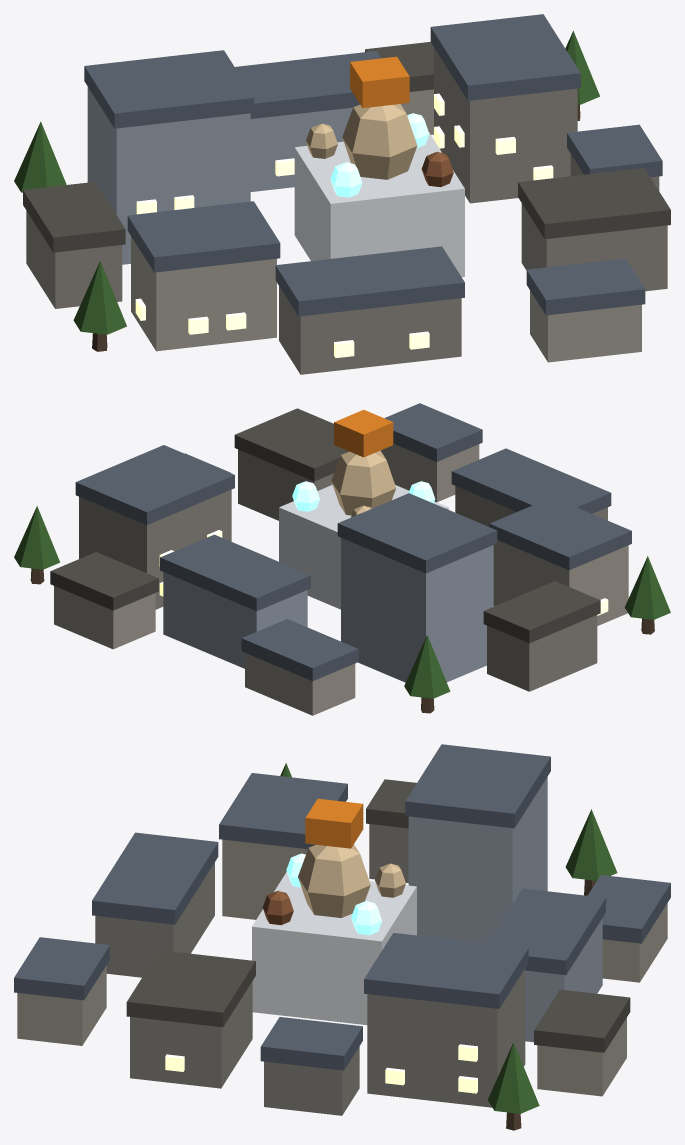
Rendered from overworld-settlement-slavic-town.glb.
3 views of the same model, one above another, from view 1: azimuth 30°, elevation 25°; view 2: azimuth 150°, elevation 25°; view 3: azimuth 270°, elevation 25° (orthographic). The views are drawn at different scales.
Parts seen in each view (by area): view 1: settlement; view 2: settlement; view 3: settlement.
Boxes of the visible parts, bbox=[...] form: settlement: bbox=[14, 14, 670, 374]; settlement: bbox=[14, 403, 670, 715]; settlement: bbox=[14, 744, 670, 1130].
Size of the model in its own units: 0.529 by 0.1484 by 0.4877.
